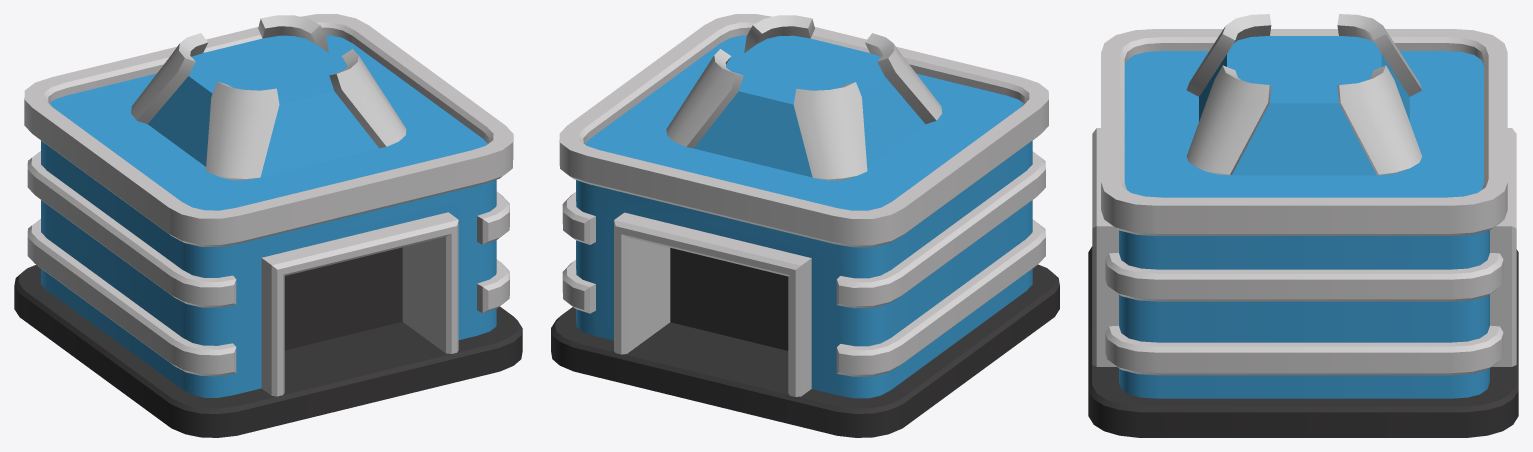
Rendered from Factory_New.fbx.
The picture shows the model from 3 angles, left to right: view 1: azimuth 30°, elevation 25°; view 2: azimuth 150°, elevation 25°; view 3: azimuth 270°, elevation 25°; orthographic projection. The views are drawn at different scales.
Visible parts, largest first — view 1: Factory_New; view 2: Factory_New; view 3: Factory_New.
Boxes of the visible parts, x1,y1,x2,y2 form: Factory_New: [14, 14, 522, 437]; Factory_New: [551, 14, 1059, 437]; Factory_New: [1088, 14, 1518, 437].
Bounding box in the file's own units: 4.85 × 3.72 × 4.85.
Materials: 1 (1 with a texture image).
